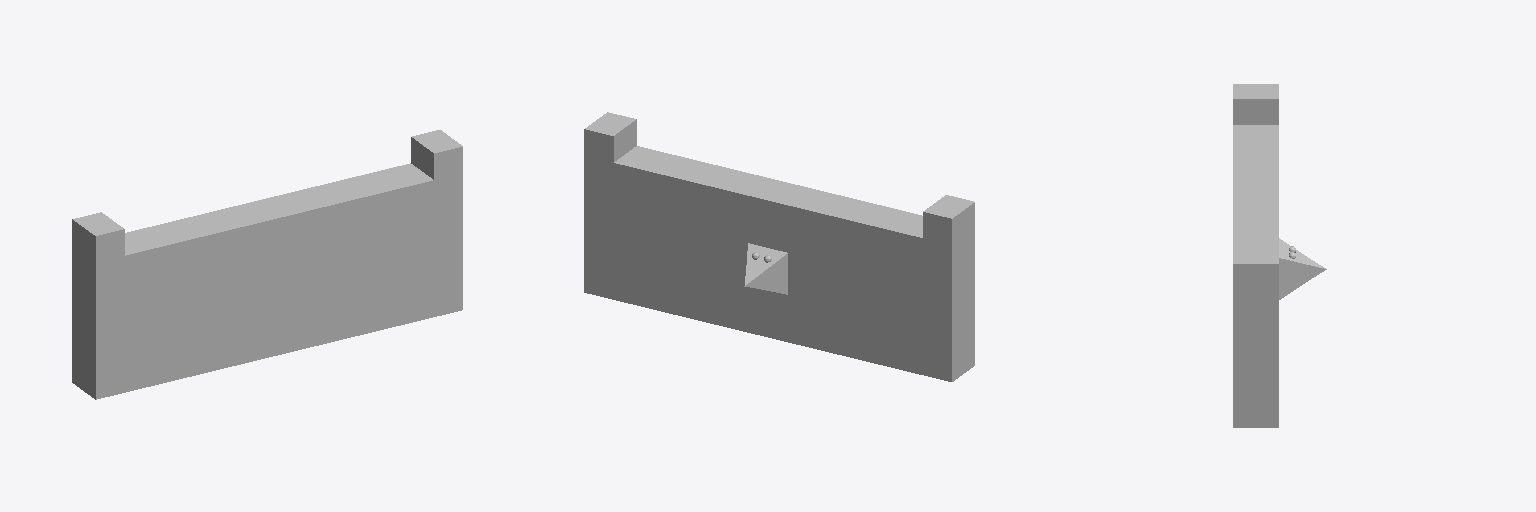
File: generic_object_stonewall.obj
The picture shows the model from 3 angles: view 1: azimuth 30°, elevation 25°; view 2: azimuth 150°, elevation 25°; view 3: azimuth 270°, elevation 25°; orthographic projection.
Parts seen in each view (by area): view 1: Cube; view 2: Cube; view 3: Cube.
Part boxes in pixels (left/top/right/bottom): Cube: left=72, top=130, right=462, bottom=399; Cube: left=584, top=112, right=974, bottom=381; Cube: left=1233, top=84, right=1308, bottom=427.
Bounding box in the file's own units: 18.26 × 7.76 × 4.04.